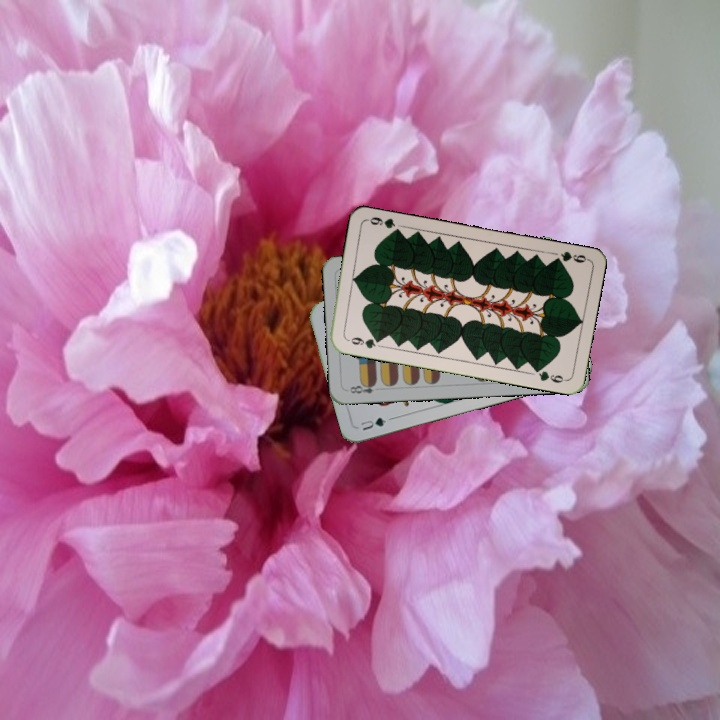E8: (346, 378, 379, 396)
G9: (548, 247, 590, 266), (342, 333, 384, 351)
GU: (356, 413, 389, 433)
